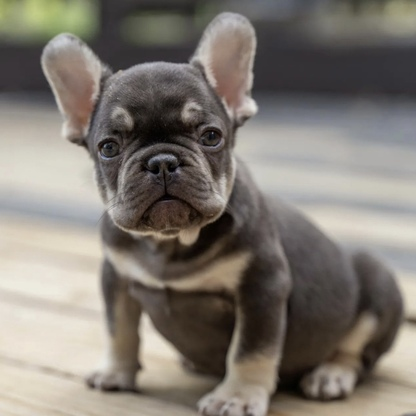bulldog: (42, 13, 409, 416)
